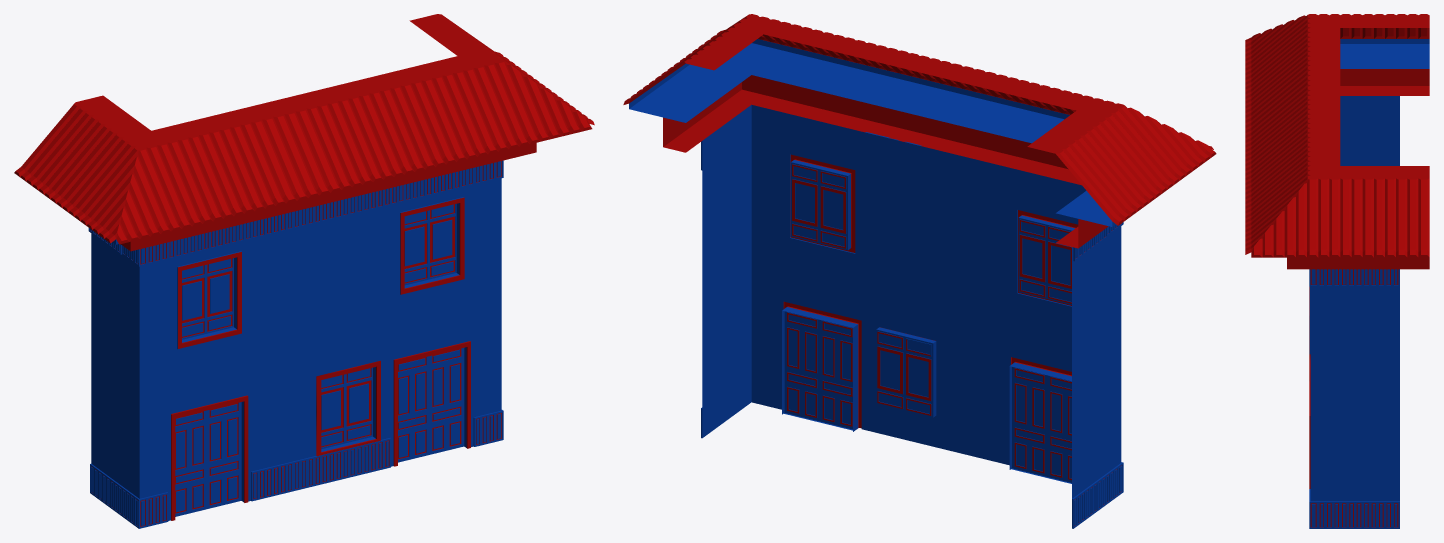
Rendered from House01.fbx.
3 renders of one model, left to right at view 1: azimuth 30°, elevation 25°; view 2: azimuth 150°, elevation 25°; view 3: azimuth 270°, elevation 25°, orthographic. The views are drawn at different scales.
Visible parts, largest first — view 1: WallSecondFloor3M1, RoofCorner1, Roof3M2, Roof3M3, Roof3M1, Roof3M5, Door02, Door03, Wall2M1, Wall2M2, RoofCorner2, Roof2M1 (+28 smaller); view 2: WallSecondFloor3M1, Wall2M1, Wall2M2, WallFrameWindows02, Roof3M5, WallSecondFloorFrameWindows2, Door03, WallCorner4, WallCorner2, Door02, WallFrameDoor04, WindowsSecondFloor2 (+25 smaller); view 3: Roof3M4, RoofCorner2, Wall2M5, Wall2M6, Roof3M5, Wall2M4, Roof3M2, Roof3M3, Roof3M1, WallCorner2, WallCorner4, Roof2M1 (+8 smaller).
Part boxes in pixels (x1,y1,x2,y2): WallSecondFloor3M1: (251, 219, 334, 354); RoofCorner1: (62, 131, 202, 244); Roof3M2: (291, 76, 425, 189); Roof3M3: (374, 56, 508, 169); Roof3M1: (151, 110, 285, 223); Roof3M5: (14, 95, 150, 207); Door02: (175, 402, 241, 516); Door03: (398, 348, 464, 462); Wall2M1: (251, 341, 306, 471); Wall2M2: (334, 205, 389, 334); RoofCorner2: (458, 49, 594, 149); Roof2M1: (235, 97, 341, 203); WallSecondFloor3M1: (922, 146, 1007, 315); Wall2M1: (950, 302, 1007, 464); Wall2M2: (865, 132, 922, 294); WallFrameWindows02: (865, 281, 950, 450); Roof3M5: (1027, 111, 1166, 226); WallSecondFloorFrameWindows2: (780, 111, 865, 280); Door03: (783, 308, 855, 430); WallCorner4: (735, 104, 779, 265); WallCorner2: (735, 253, 779, 413); Door02: (1011, 367, 1071, 483); WallFrameDoor04: (780, 260, 865, 431); WindowsSecondFloor2: (790, 154, 855, 253); Roof3M4: (1340, 166, 1429, 257); RoofCorner2: (1245, 166, 1340, 257); Wall2M5: (1340, 393, 1399, 501); Wall2M6: (1340, 286, 1399, 393); Roof3M5: (1340, 14, 1429, 68); Wall2M4: (1340, 96, 1399, 165); Roof3M2: (1245, 90, 1340, 177); Roof3M3: (1245, 128, 1340, 215); Roof3M1: (1245, 28, 1340, 115); WallCorner2: (1310, 393, 1340, 501); WallCorner4: (1310, 286, 1340, 393); Roof2M1: (1245, 65, 1340, 140).
Size of the model in its own units: 1740 by 1300 by 620.
